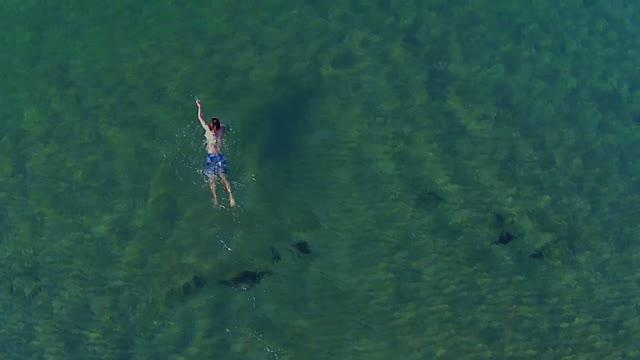swimmer: (192, 96, 240, 210)
